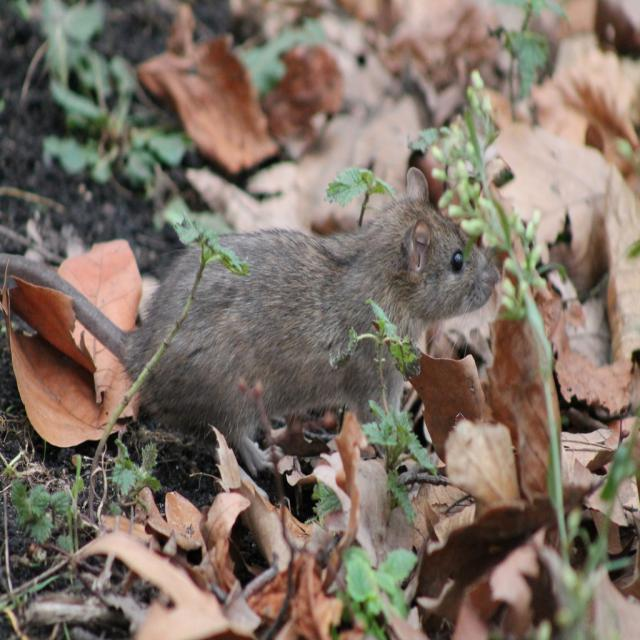rat: (0, 167, 500, 473)
